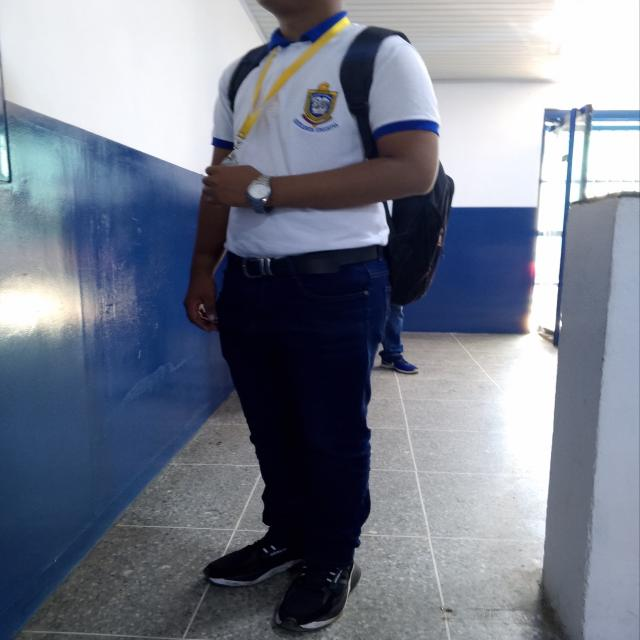pantalon_oscuro: (217, 260, 392, 562)
uniforme_superior: (210, 9, 440, 259)
